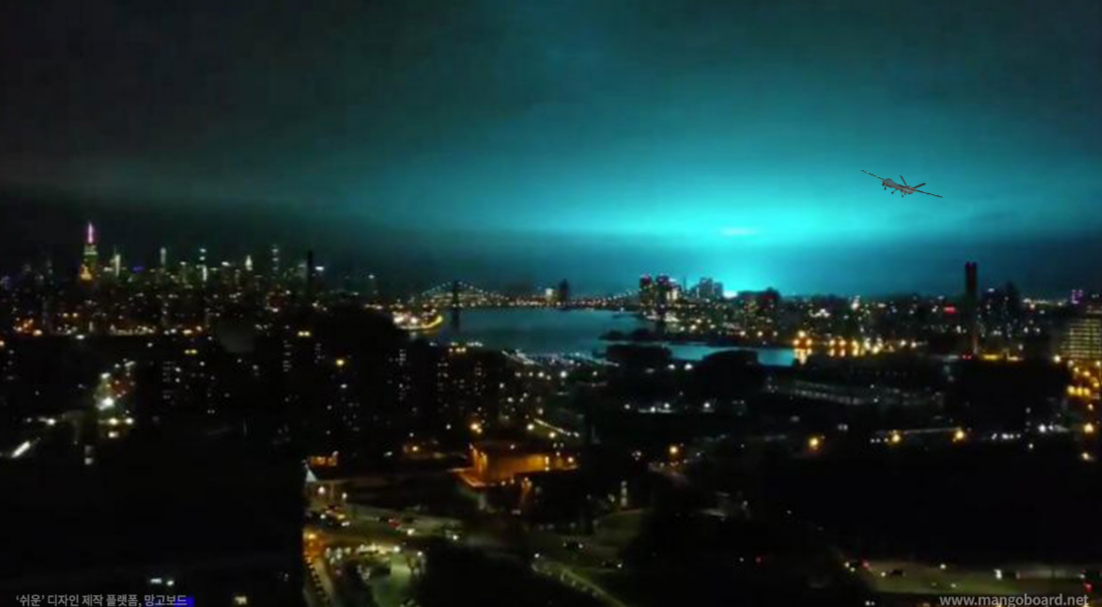military drone: (860, 169, 943, 199)
